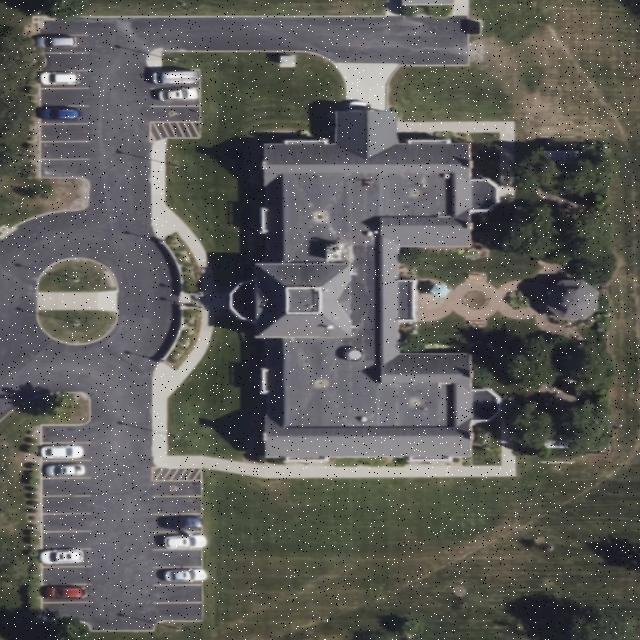Empty: (40, 158, 92, 178), (152, 602, 204, 622), (39, 16, 89, 36), (153, 548, 203, 568), (42, 567, 94, 585), (42, 531, 94, 549), (40, 425, 91, 443), (153, 496, 203, 514), (153, 585, 203, 603), (42, 603, 92, 621), (42, 495, 92, 513), (41, 141, 90, 159), (40, 88, 90, 105), (42, 514, 94, 530), (41, 480, 93, 496), (40, 124, 91, 140), (151, 106, 201, 122), (153, 481, 203, 497), (43, 54, 89, 70)
Parked: (40, 106, 92, 124), (153, 567, 204, 585), (41, 34, 89, 53), (43, 461, 93, 479), (43, 549, 93, 567), (42, 585, 92, 603), (153, 532, 203, 550), (151, 70, 201, 88), (40, 71, 88, 89), (152, 88, 200, 106), (41, 444, 90, 461), (153, 514, 203, 530)
